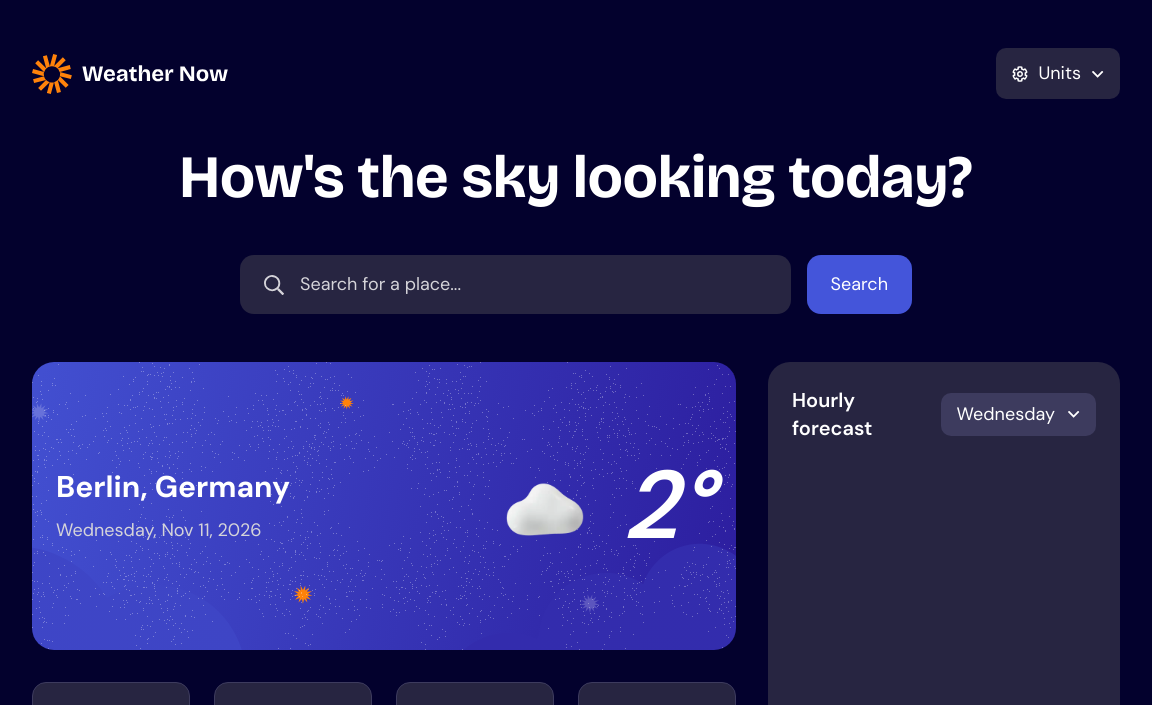
Test case: Imperial/Metric 한 번에 전환 › Imperial 상태에서 Switch to Metric을 누르면 섭씨·km/h·mm 값으로 돌아온다
The width and height of the screenshot is (1152, 705).
Expected: the text "Berlin, Germany" is shown, x1=56 y1=468 x2=290 y2=504
Click the button "Units": (1058, 74) x1=996 y1=48 x2=1120 y2=99
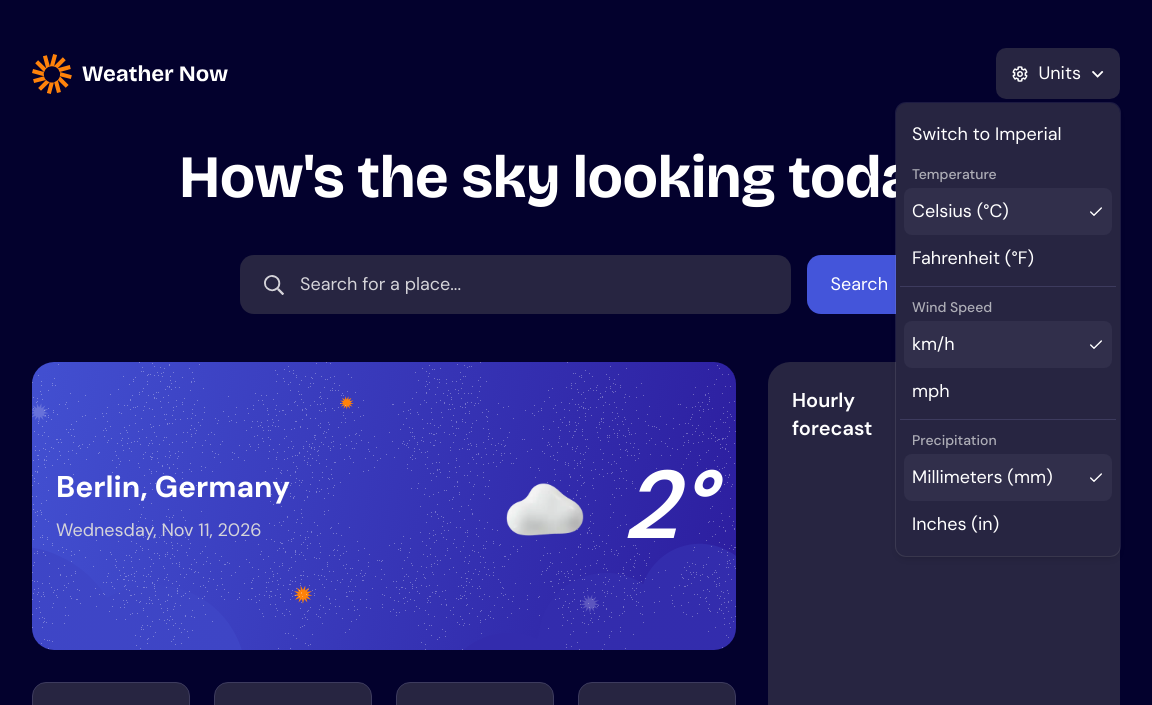
Click the menu item "Switch to Imperial": (987, 134) x1=912 y1=122 x2=1062 y2=146
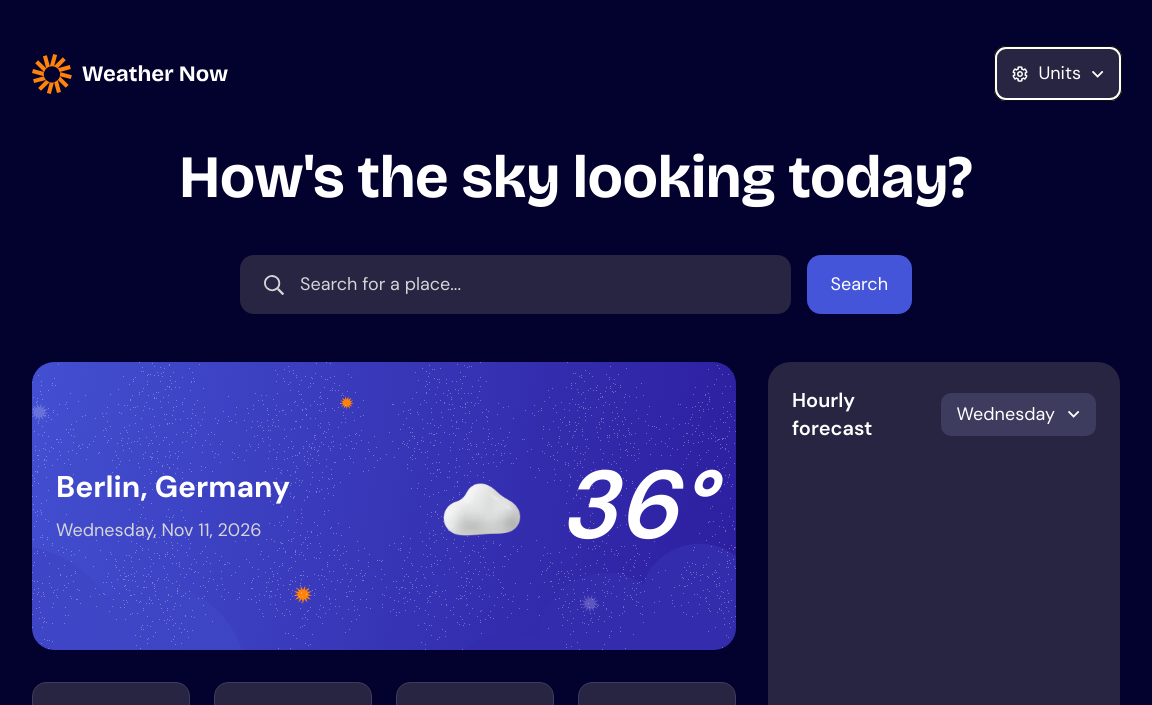
Expected: the menu is gone
Click the button "Units": (1058, 74) x1=996 y1=48 x2=1120 y2=99
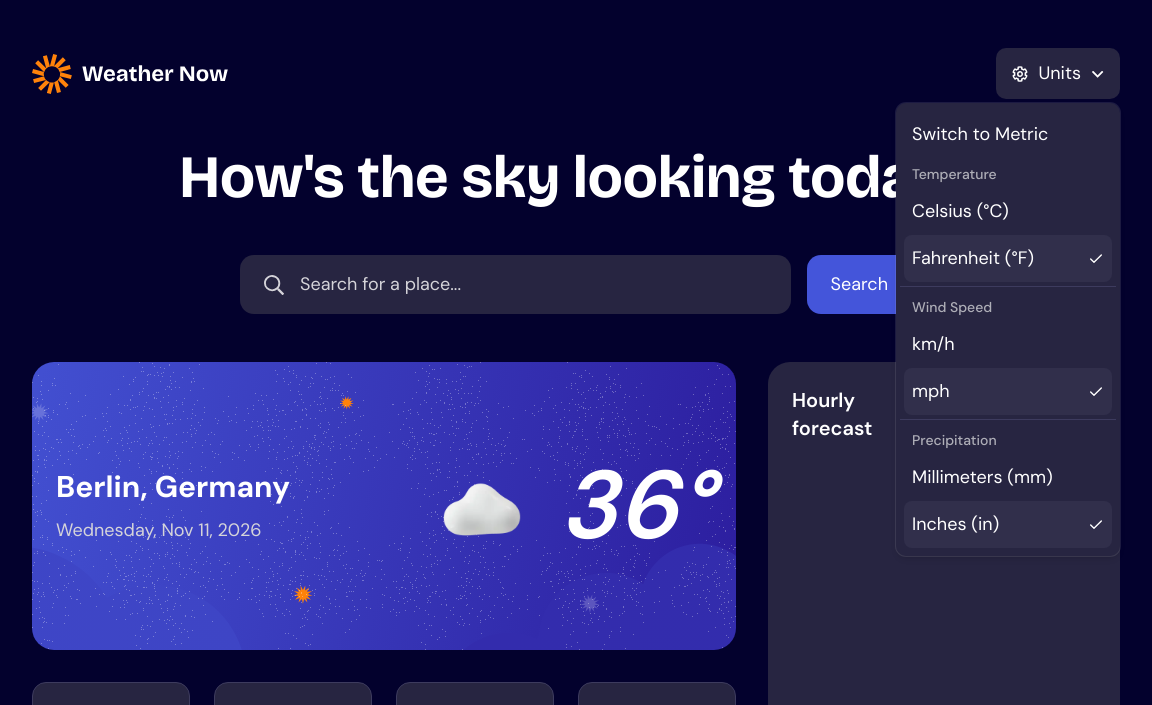
Click the menu item "Switch to Metric": (980, 134) x1=912 y1=122 x2=1048 y2=146
(page scrolled)
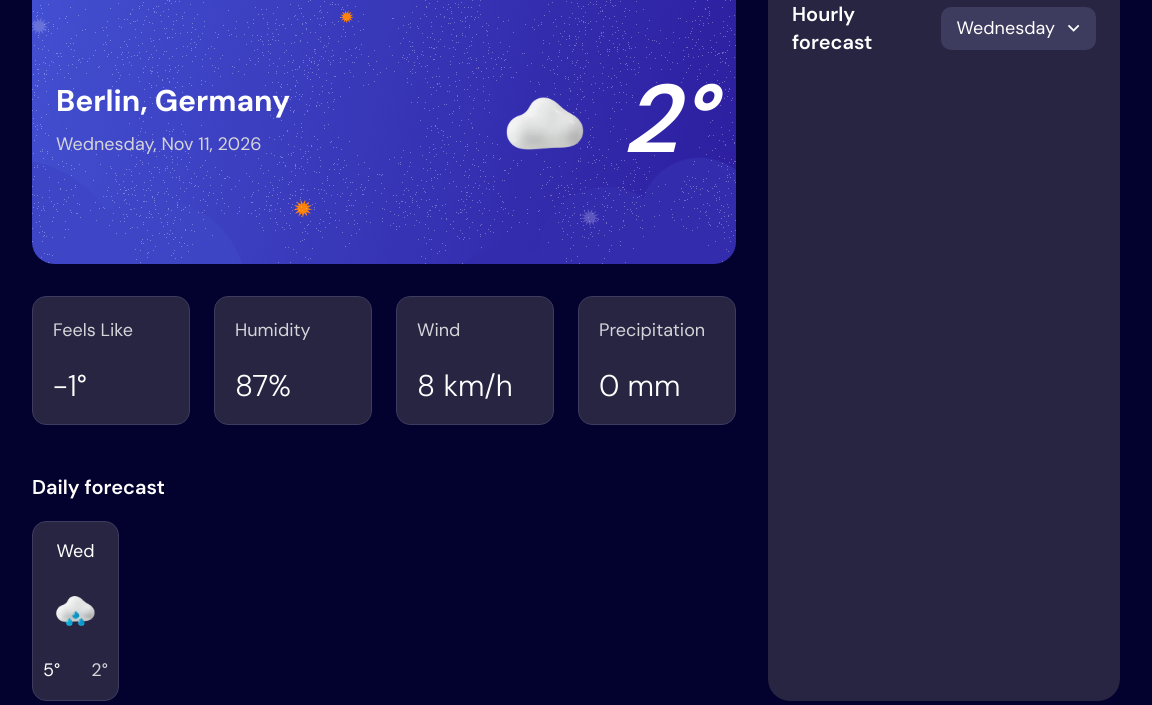
Expected: the menu is gone
